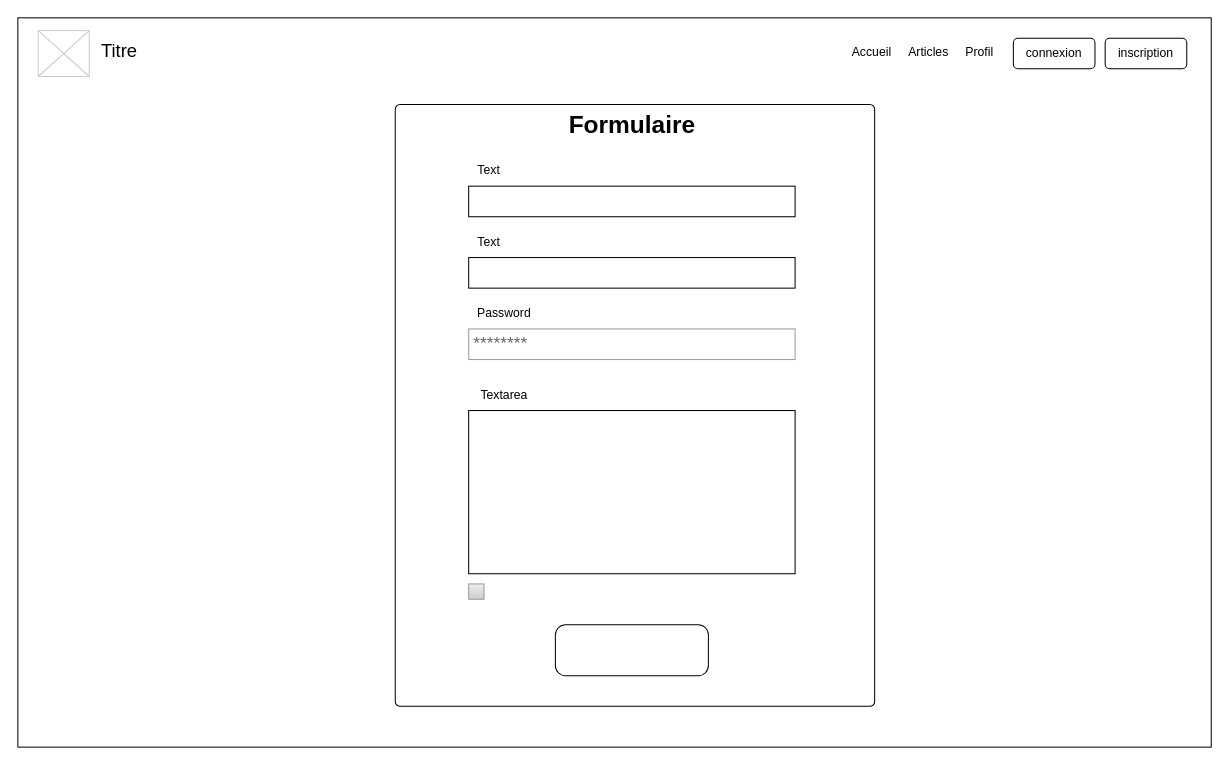
The diagram is 1229 pixels wide and 765 high, and some of its shapes have lost their labels. Here are the shapes that lost their labels. From the top down, the box of each, then its label:
(468, 583, 484, 599): Checkbox
(554, 624, 708, 676): Submit
